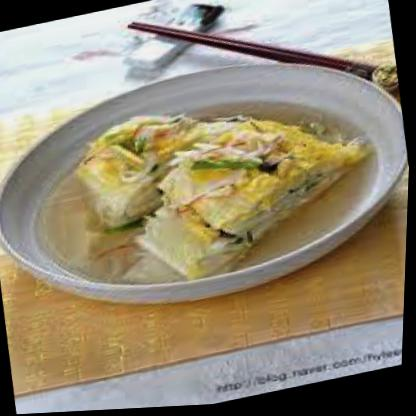baek Kimchi: (28, 64, 385, 315)
